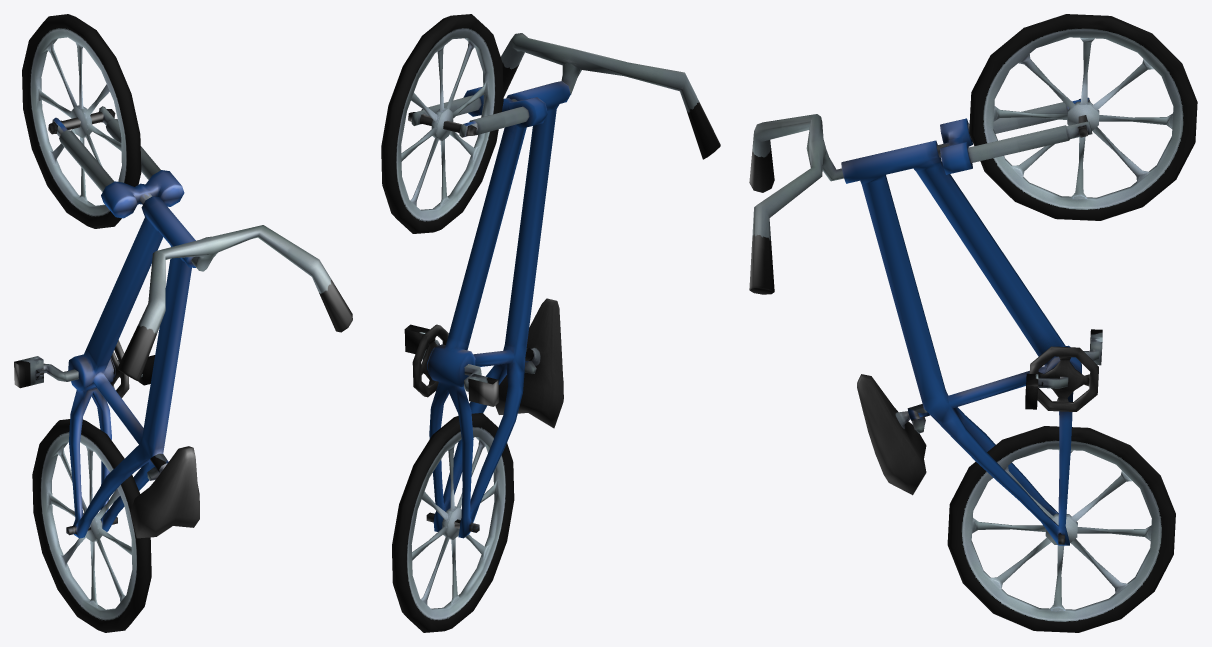
The model's file is Bike.dae.
The picture shows the model from 3 angles, left to right: view 1: azimuth 30°, elevation 25°; view 2: azimuth 150°, elevation 25°; view 3: azimuth 270°, elevation 25°; orthographic projection. The views are drawn at different scales.
Visible parts, largest first — view 1: Bike_Low; view 2: Bike_Low; view 3: Bike_Low.
Boxes of the visible parts, x1,y1,x2,y2 form: Bike_Low: (14,14,352,632); Bike_Low: (381,14,720,632); Bike_Low: (749,14,1197,632).
Bounding box in the file's own units: 2.29 × 3.68 × 5.61.
Materials: 1 (1 with a texture image).
